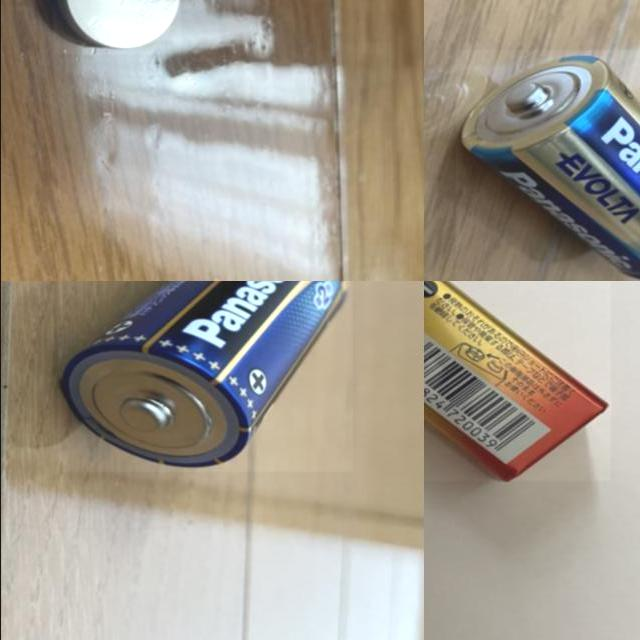9V: (423, 281, 610, 481)
